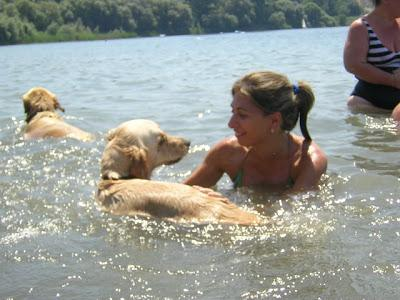swimmer: (188, 68, 330, 206)
